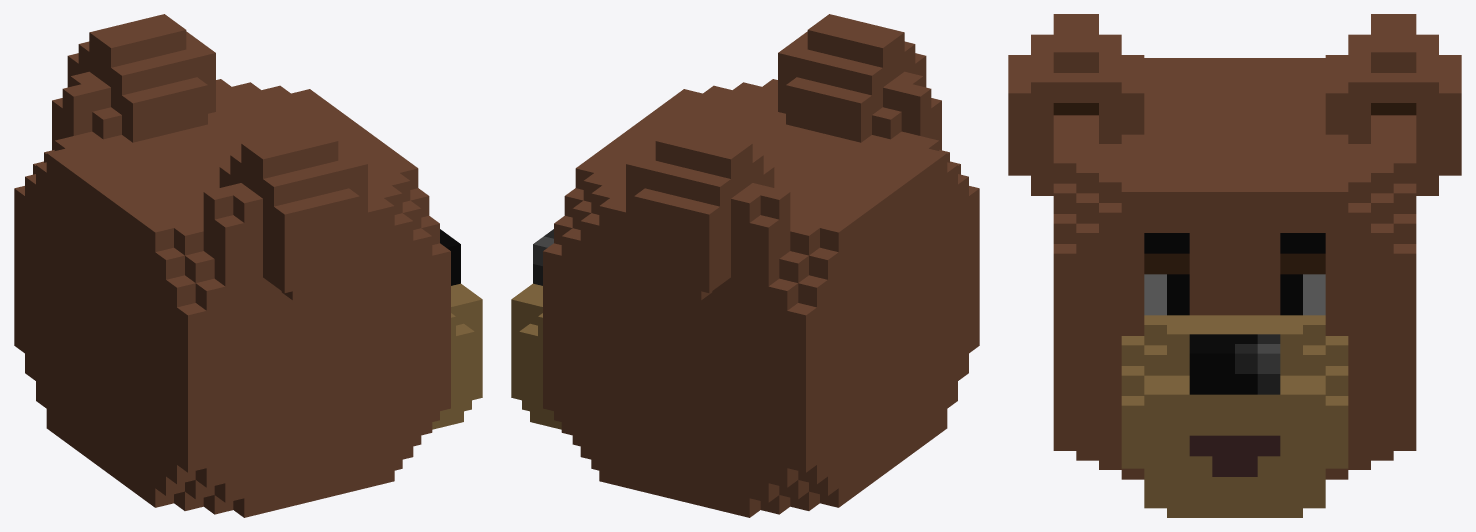
The model's file is maxhead.obj.
The picture shows the model from 3 angles, left to right: view 1: azimuth 30°, elevation 25°; view 2: azimuth 150°, elevation 25°; view 3: azimuth 270°, elevation 25°; orthographic projection. The views are drawn at different scales.
Bounding box in the file's own units: 1.8 × 1.9 × 2.
Materials: 1 (1 with a texture image).
